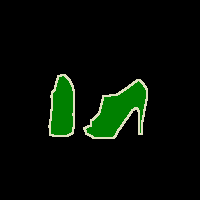shoe: (84, 79, 147, 138), (49, 74, 74, 136)
